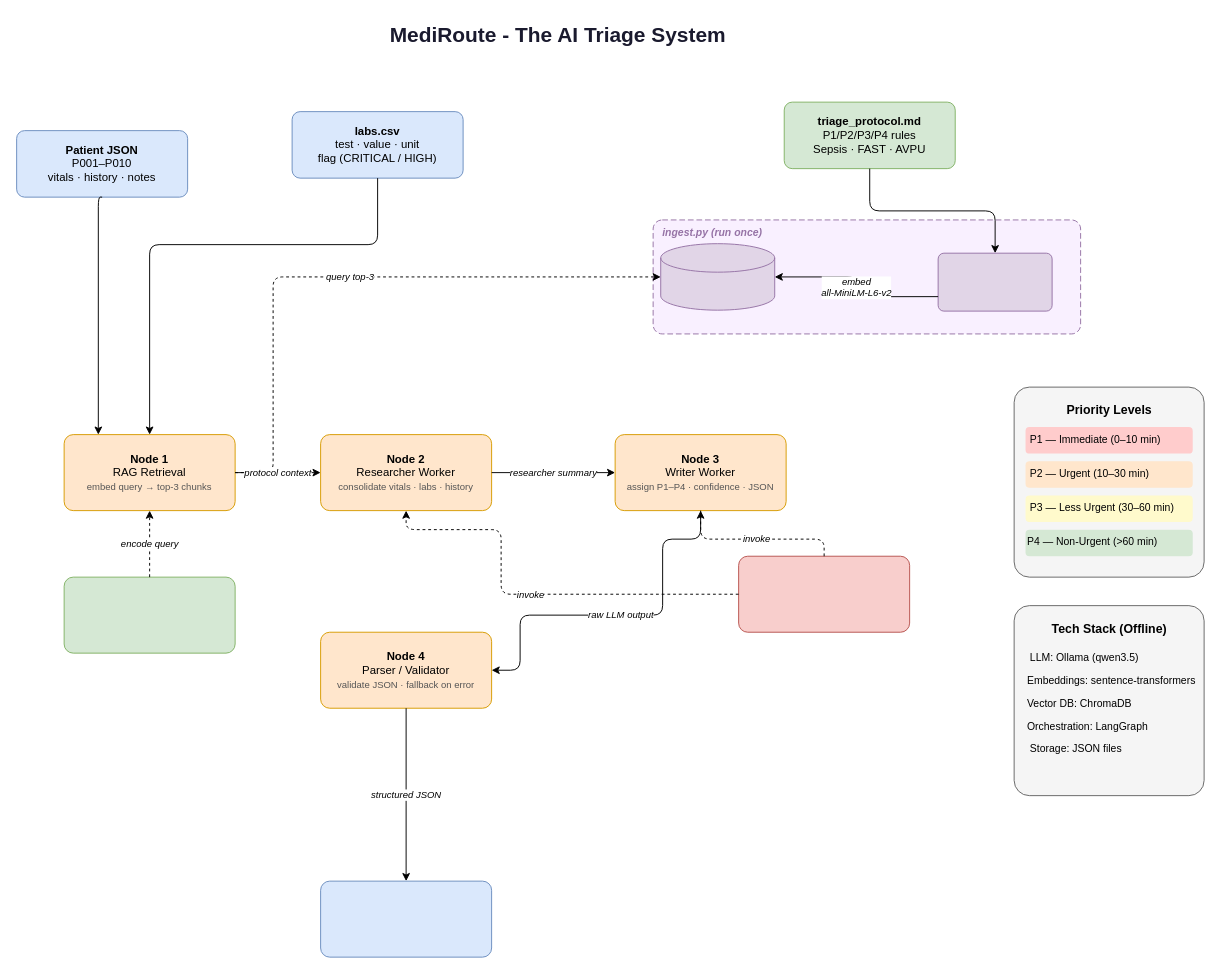
The diagram is 1221 pixels wide and 974 high, and some of its shapes have lost their labels. The shapes that lost their labels are listed below. From the top down, each one's box as (x1, y1, x2, y2) in pixels, then its label:
(660, 243, 775, 310): ChromaDB Local vector store (persistent)
(937, 252, 1052, 311): Chunker Split by ## headings
(738, 555, 910, 632): Ollama LLM qwen3.5/4b temp=0.1 (offline)
(63, 576, 235, 653): sentence-transformers all-MiniLM-L6-v2 384-dim vectors
(320, 880, 492, 957): results.json priority · confidence key_signals · reasoning worker_trace
